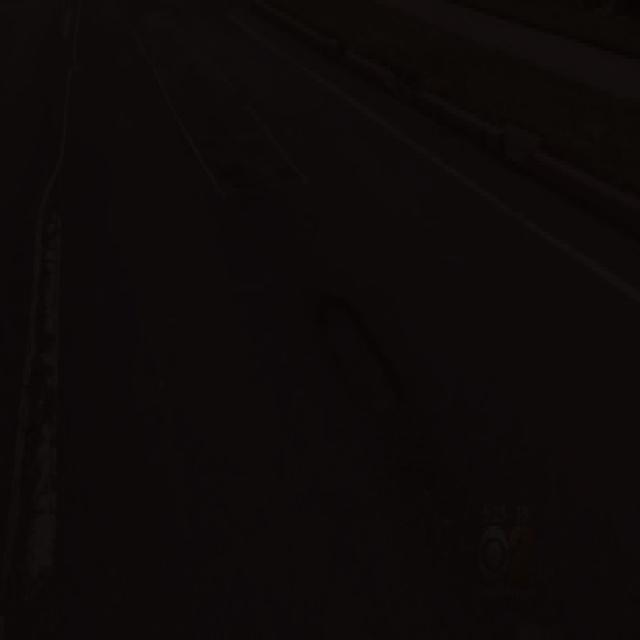Pothole: (306, 286, 422, 425), (207, 126, 291, 202)
